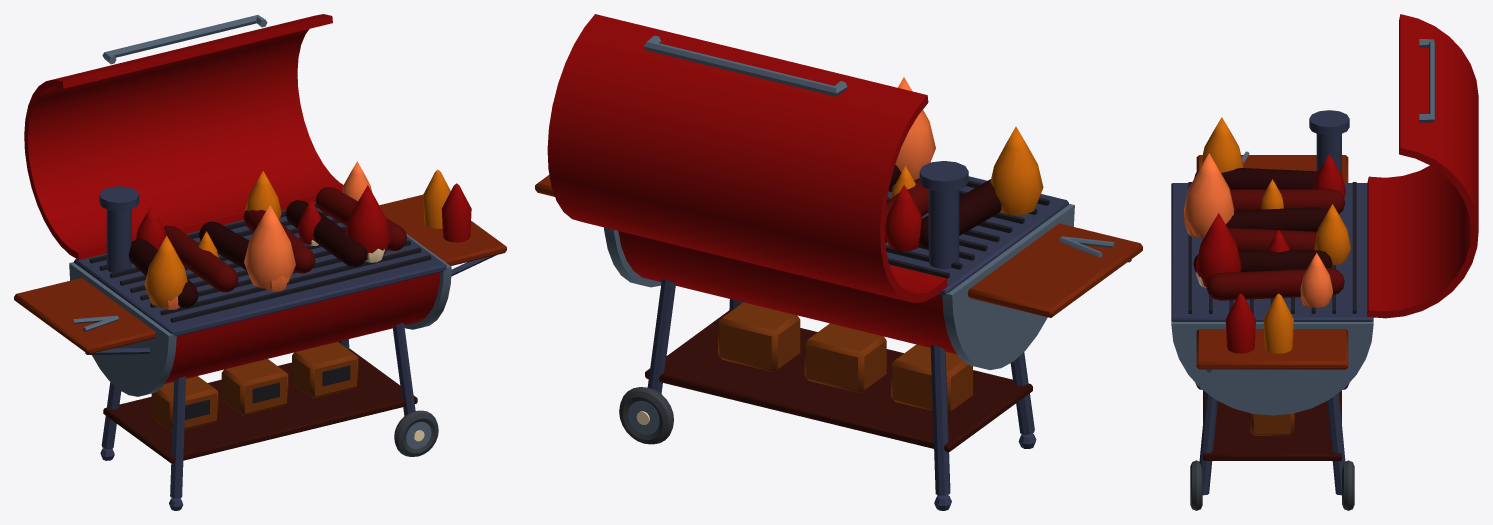
File: FlameGrill.obj
3 views of the same model, side by side, from view 1: azimuth 30°, elevation 25°; view 2: azimuth 150°, elevation 25°; view 3: azimuth 270°, elevation 25° (orthographic). The views are drawn at different scales.
Parts seen in each view (by area): view 1: FlameGrill; view 2: FlameGrill; view 3: FlameGrill.
Boxes of the visible parts, <box> form: FlameGrill: <box>14,14,506,510</box>; FlameGrill: <box>535,14,1142,510</box>; FlameGrill: <box>1171,14,1478,510</box>.
Size of the model in its own units: 7.8 by 6.5 by 4.86.
